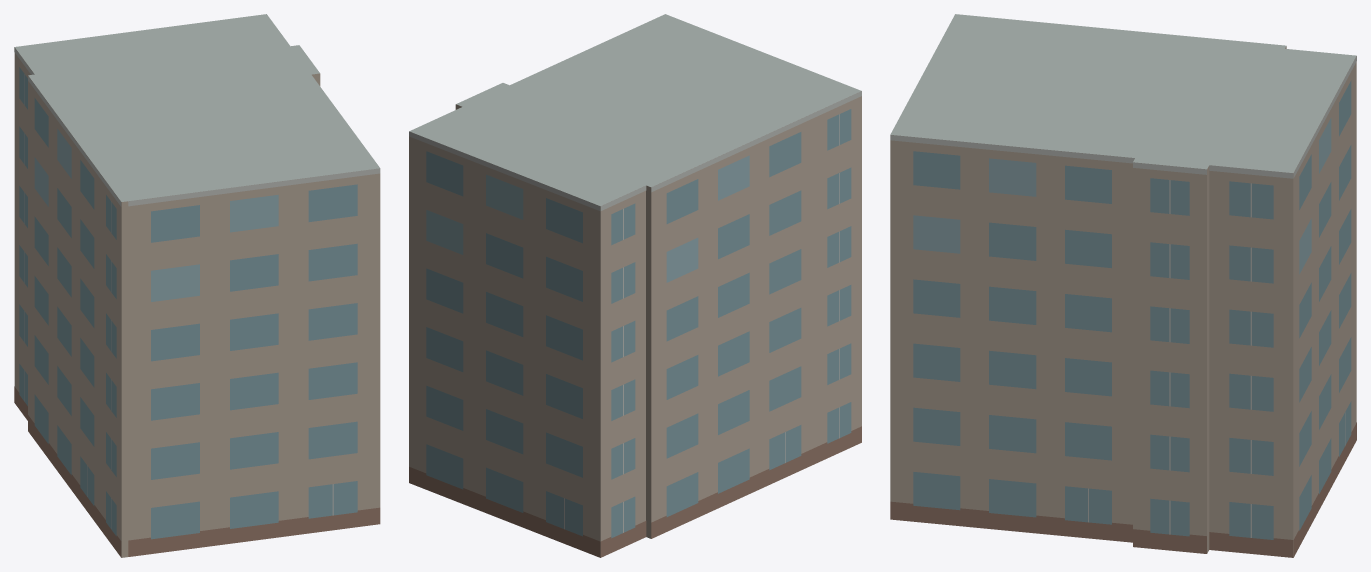
Rendered from survey-upis-32659178.glb.
The picture shows the model from 3 angles, left to right: view 1: azimuth 30°, elevation 25°; view 2: azimuth 150°, elevation 25°; view 3: azimuth 270°, elevation 25°; orthographic projection. The views are drawn at different scales.
Visible parts, largest first — view 1: survey-upis-32659178.tmp; view 2: survey-upis-32659178.tmp; view 3: survey-upis-32659178.tmp.
Boxes of the visible parts, x1=… form: survey-upis-32659178.tmp: x1=14, y1=14, x2=380, y2=557; survey-upis-32659178.tmp: x1=409, y1=14, x2=861, y2=557; survey-upis-32659178.tmp: x1=890, y1=14, x2=1356, y2=557.
Size of the model in its own units: 14.92 by 16.8 by 18.47.
